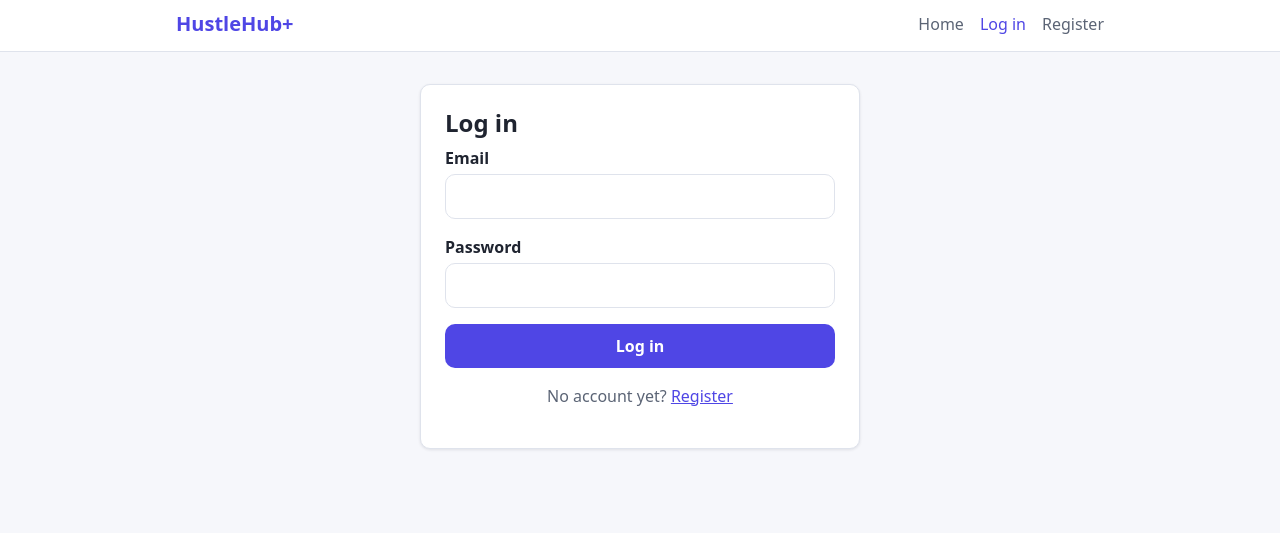
LoginPage › shows the API error message when the credentials are wrong
This screenshot has width=1280, height=533.
In the field labelled "Email": {"x": 640, "y": 196} [445,174,835,219], type "thandi@example.com"
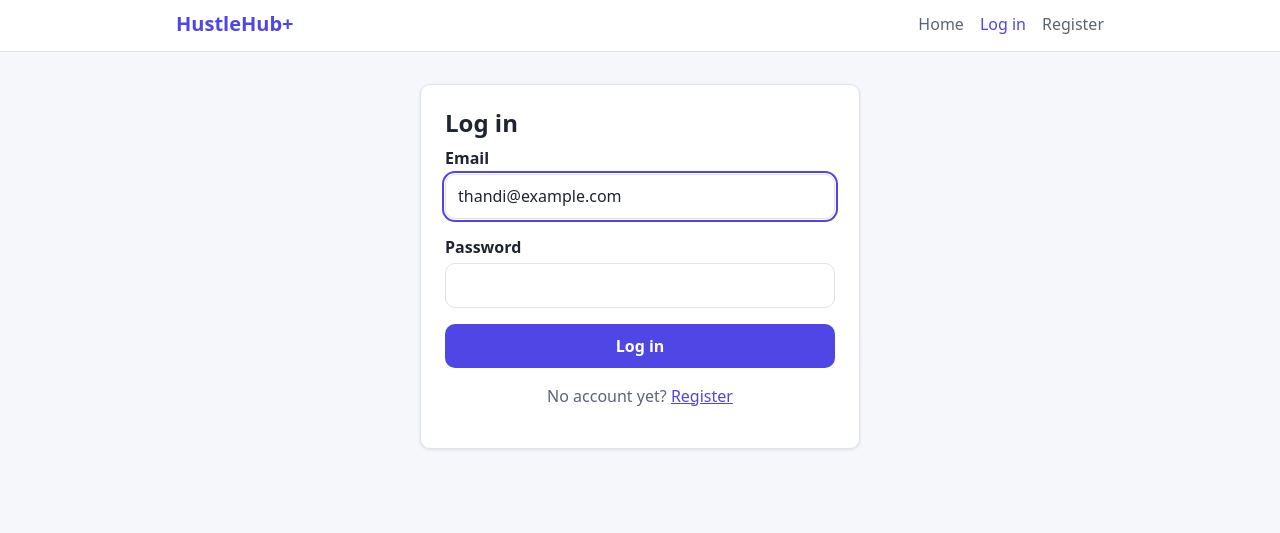
In the password field labelled "Password": {"x": 640, "y": 286} [445,263,835,308], type "WrongPassword1"
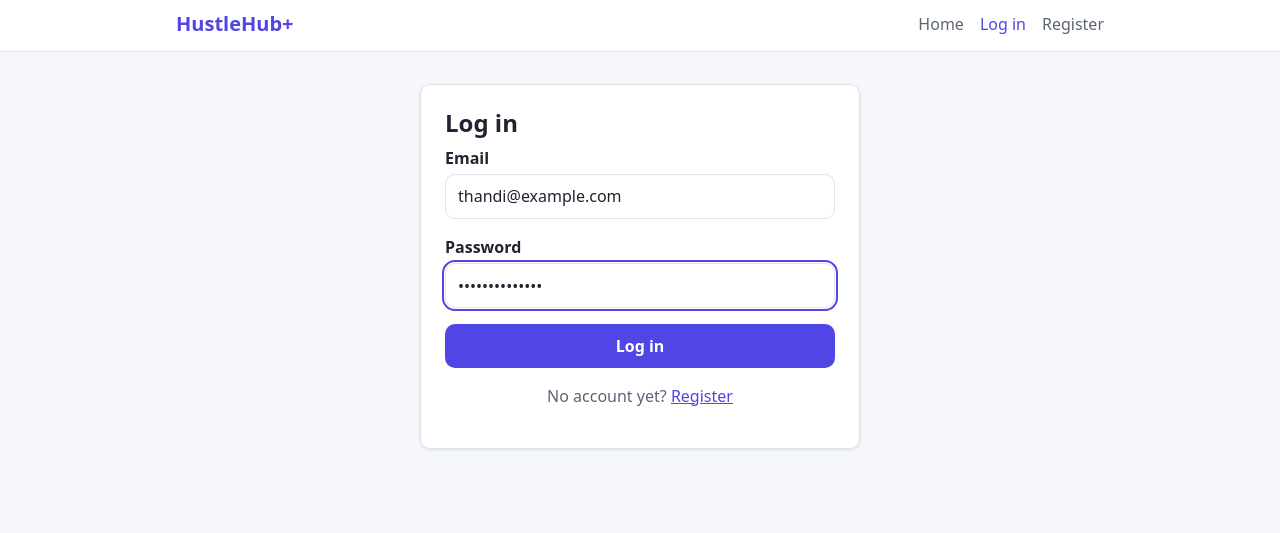
Click the button "Log in": {"x": 640, "y": 346} [445,324,835,368]
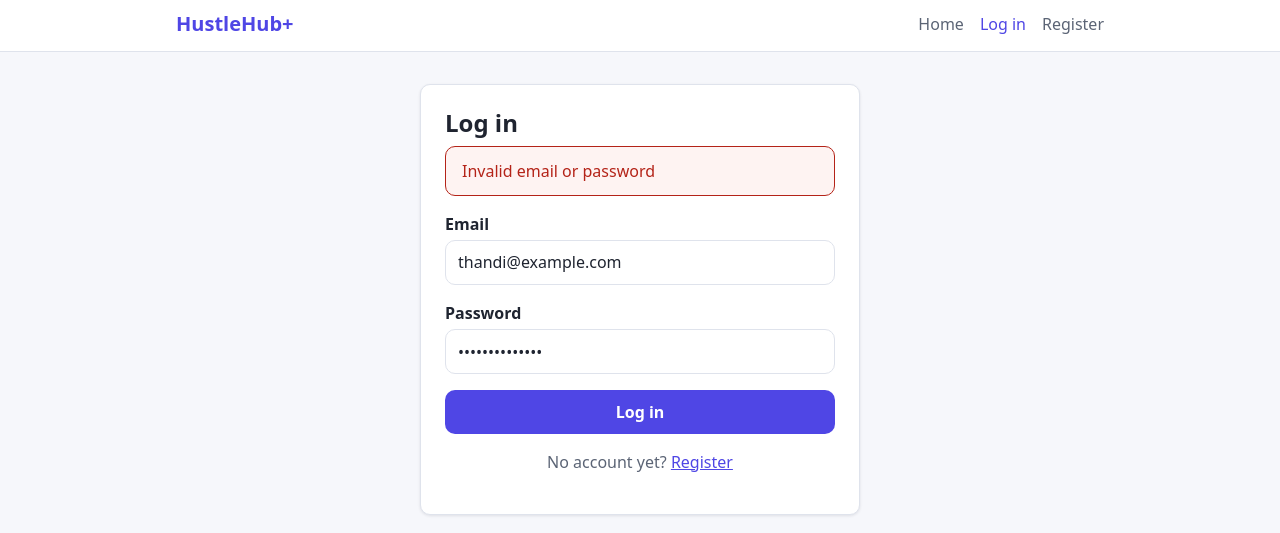
Now the message reads "Invalid email or password", box [462,160,655,182]
